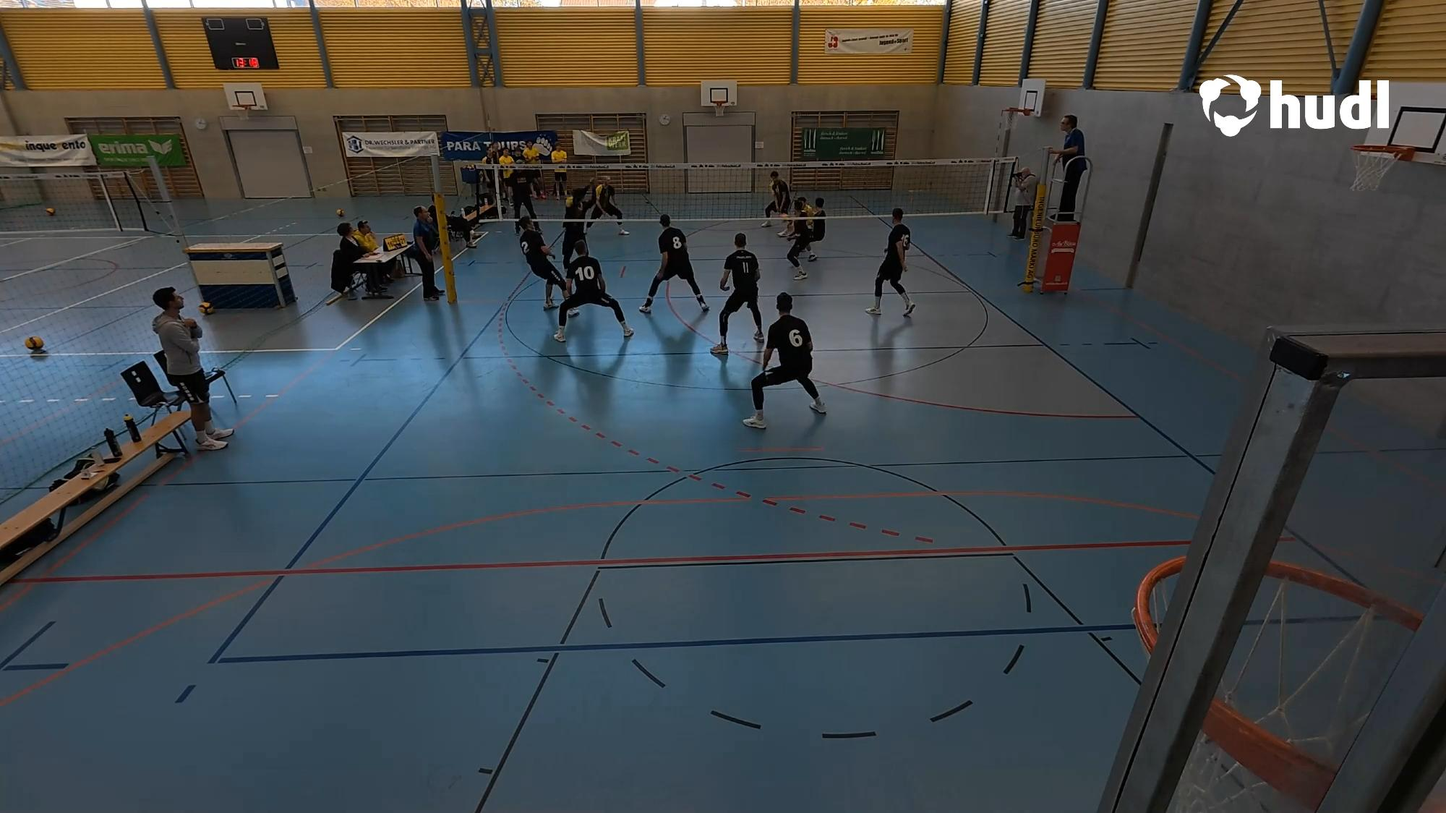Player: (744, 294, 826, 430), (553, 238, 630, 340), (711, 234, 763, 361), (641, 219, 707, 312), (514, 212, 573, 313), (870, 210, 915, 319), (560, 174, 596, 260), (590, 172, 629, 241), (784, 197, 811, 286), (763, 171, 793, 239)
ball: (778, 211, 790, 222)
